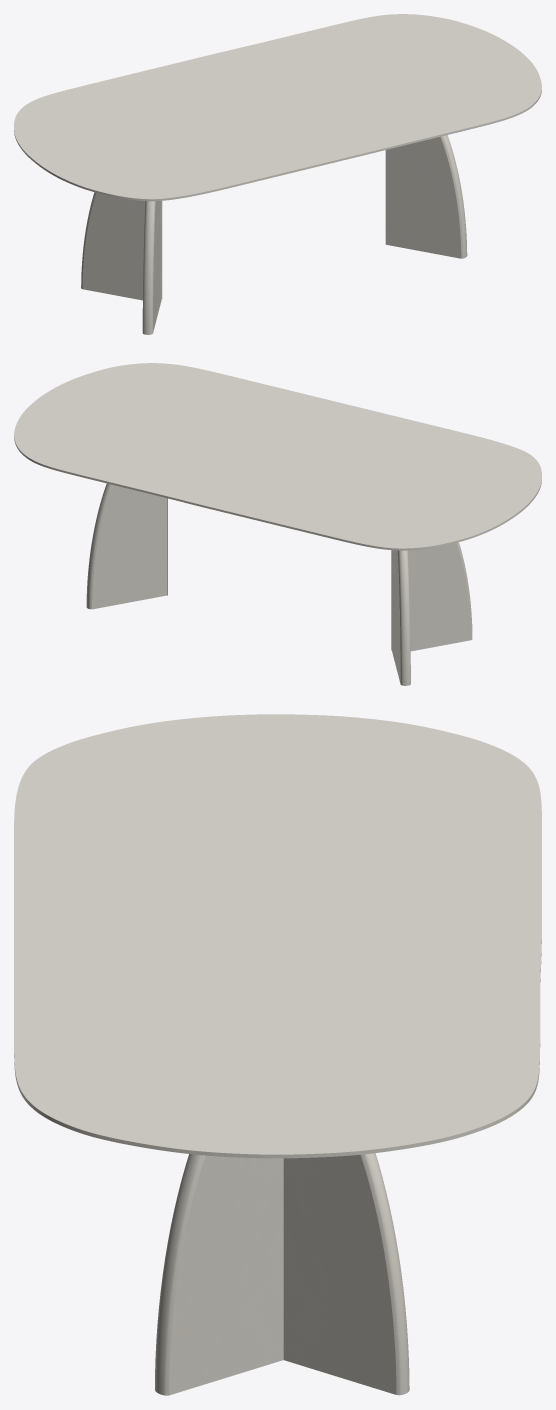
File: pale_oval_facet_newtable2.glb
3 renders of one model, top to bottom at view 1: azimuth 30°, elevation 25°; view 2: azimuth 150°, elevation 25°; view 3: azimuth 270°, elevation 25°, orthographic. The views are drawn at different scales.
Visible parts, largest first — view 1: facet_oval, newtable2_singleright2, newtable2_singleleft1, newtable2_singleright1; view 2: facet_oval, newtable2_singleleft2, newtable2_singleright1, newtable2_singleleft1; view 3: facet_oval, newtable2_singleright2, newtable2_singleleft2.
Part boxes in pixels (left/top/right/bottom): facet_oval: left=14, top=14, right=541, bottom=201; newtable2_singleright2: left=385, top=135, right=467, bottom=258; newtable2_singleleft1: left=81, top=192, right=162, bottom=300; newtable2_singleright1: left=142, top=201, right=161, bottom=334; facet_oval: left=14, top=363, right=541, bottom=550; newtable2_singleleft2: left=86, top=483, right=167, bottom=609; newtable2_singleright1: left=391, top=542, right=472, bottom=651; newtable2_singleleft1: left=391, top=550, right=410, bottom=685; facet_oval: left=14, top=714, right=541, bottom=1158; newtable2_singleright2: left=155, top=1154, right=283, bottom=1395; newtable2_singleleft2: left=283, top=1153, right=409, bottom=1395.
Bounding box in the file's own units: 7.5 × 2.49 × 3.8.
Materials: 1 (1 with a texture image).
